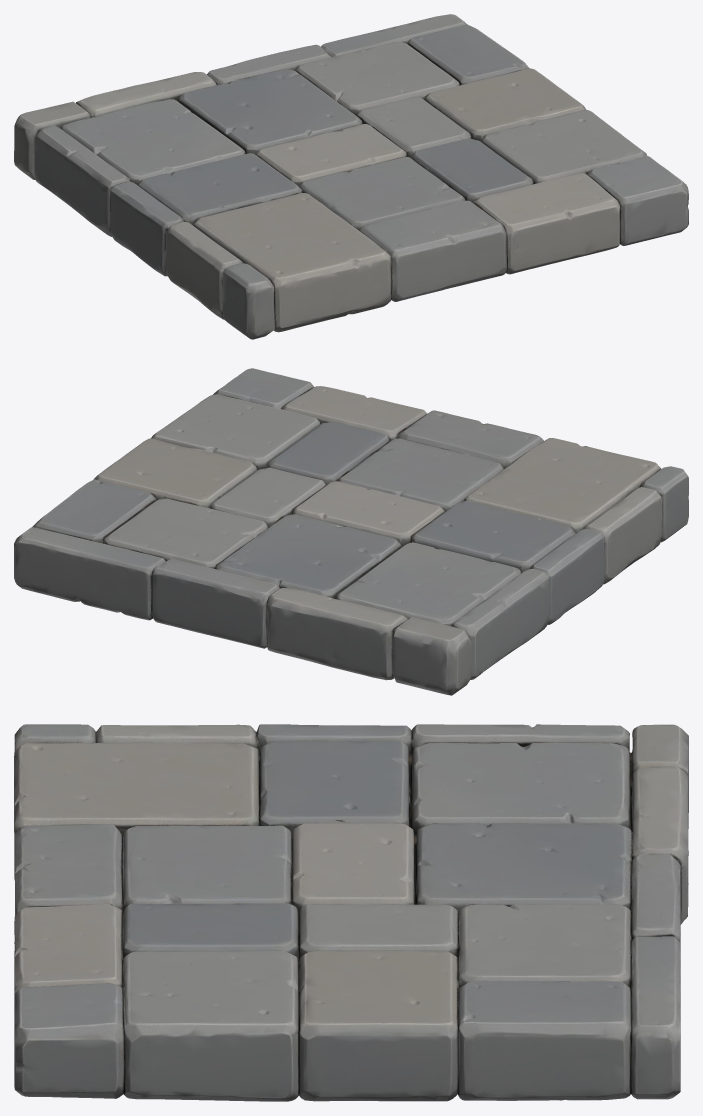
File: stone_tile_1k_real.glb
The picture shows the model from 3 angles, top to bottom: view 1: azimuth 30°, elevation 25°; view 2: azimuth 150°, elevation 25°; view 3: azimuth 270°, elevation 25°; orthographic projection. The views are drawn at different scales.
Parts seen in each view (by area): view 1: tripo_node_50f0e777-7eda-4f2d-b742-5f99aa317372; view 2: tripo_node_50f0e777-7eda-4f2d-b742-5f99aa317372; view 3: tripo_node_50f0e777-7eda-4f2d-b742-5f99aa317372.
Boxes of the visible parts, <box> form: tripo_node_50f0e777-7eda-4f2d-b742-5f99aa317372: <box>14,14,688,339</box>; tripo_node_50f0e777-7eda-4f2d-b742-5f99aa317372: <box>14,368,688,695</box>; tripo_node_50f0e777-7eda-4f2d-b742-5f99aa317372: <box>14,724,688,1101</box>.
Size of the model in its own units: 1 by 0.1215 by 0.9311.
Materials: 1 (1 with a texture image).
